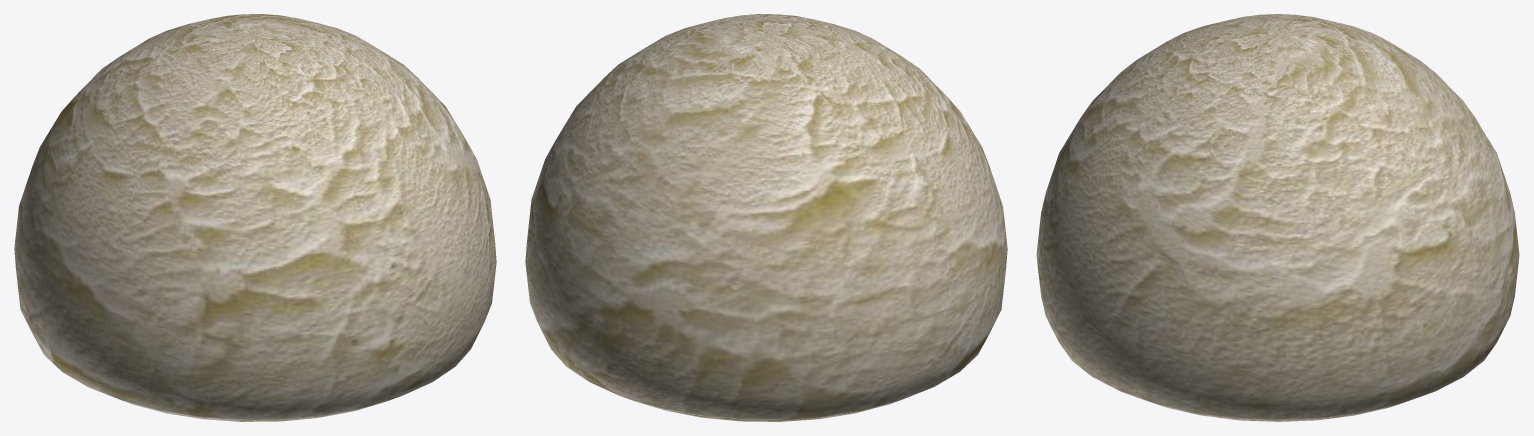
Rendered from iceCream.obj.
The picture shows the model from 3 angles, left to right: view 1: azimuth 30°, elevation 25°; view 2: azimuth 150°, elevation 25°; view 3: azimuth 270°, elevation 25°; orthographic projection.
Parts seen in each view (by area): view 1: Sphere001; view 2: Sphere001; view 3: Sphere001.
Part boxes in pixels (x1=…): Sphere001: x1=14, y1=14, x2=496, y2=421; Sphere001: x1=525, y1=14, x2=1007, y2=421; Sphere001: x1=1036, y1=14, x2=1519, y2=421.
Size of the model in its own units: 29.91 by 20.54 by 29.91.
